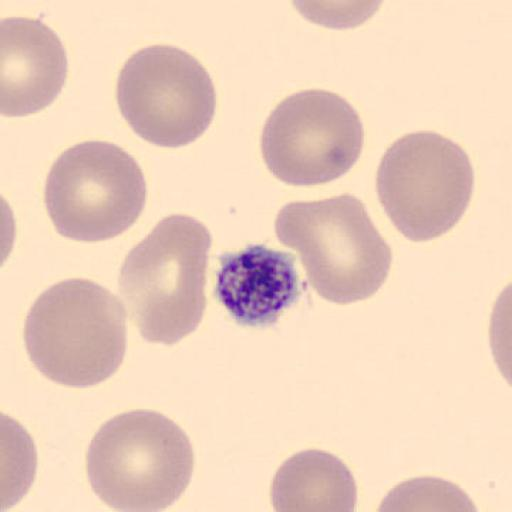Platelet: (209, 240, 310, 330)
RBC: (273, 191, 394, 308), (114, 211, 212, 348), (20, 276, 128, 390), (372, 127, 476, 244), (83, 406, 196, 512), (112, 42, 218, 150), (42, 138, 149, 244), (258, 85, 366, 190), (1, 14, 70, 120), (268, 445, 359, 512), (373, 472, 482, 512), (1, 411, 39, 511), (286, 0, 389, 32), (486, 280, 512, 393), (0, 189, 18, 269)
